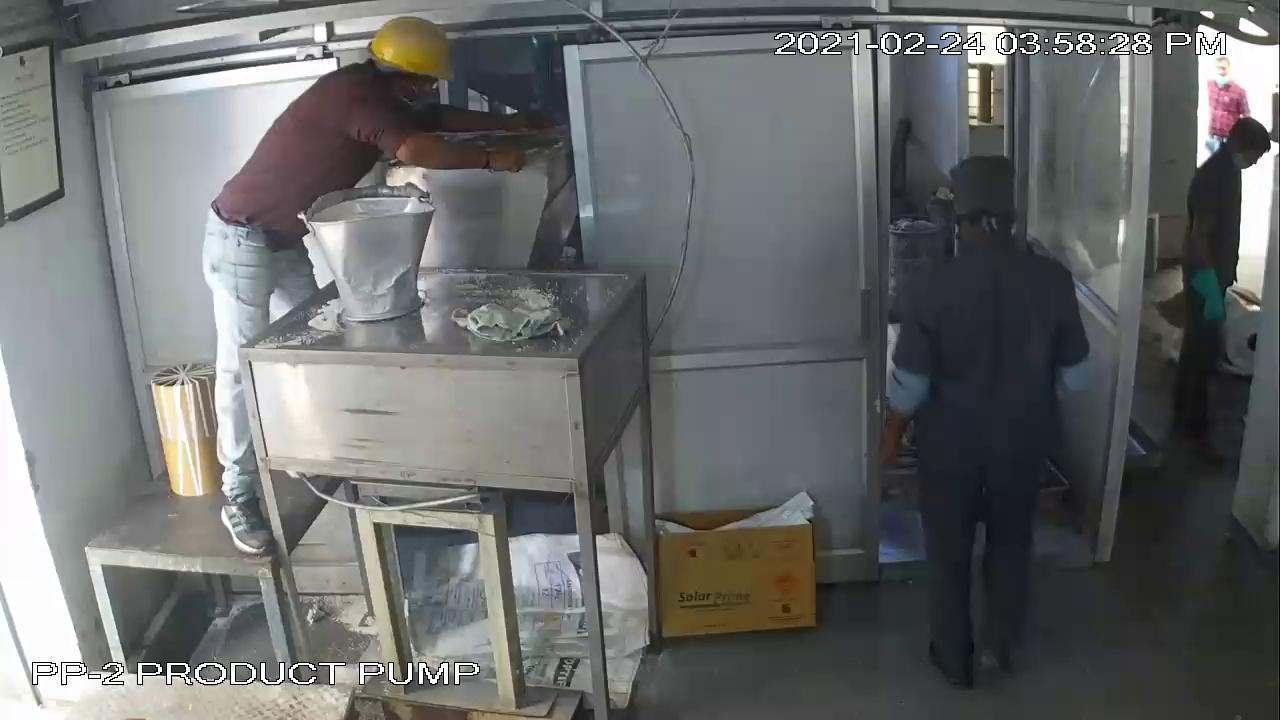helmet: (364, 12, 463, 80)
